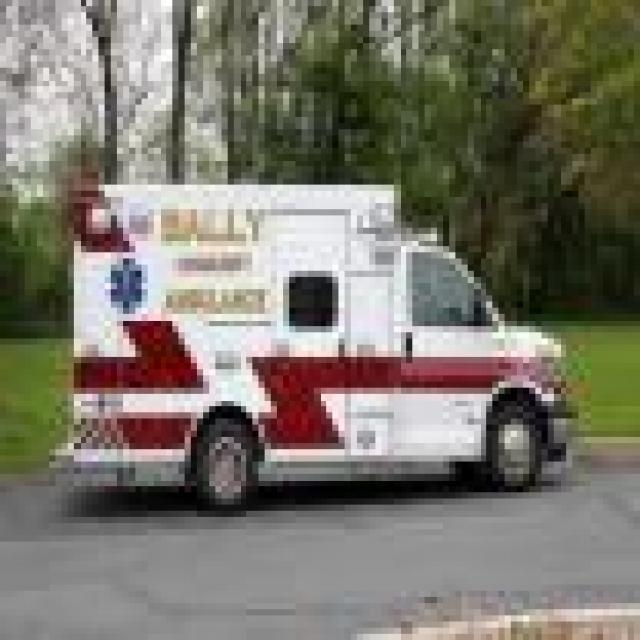emergency-vehicle: (58, 163, 594, 514)
